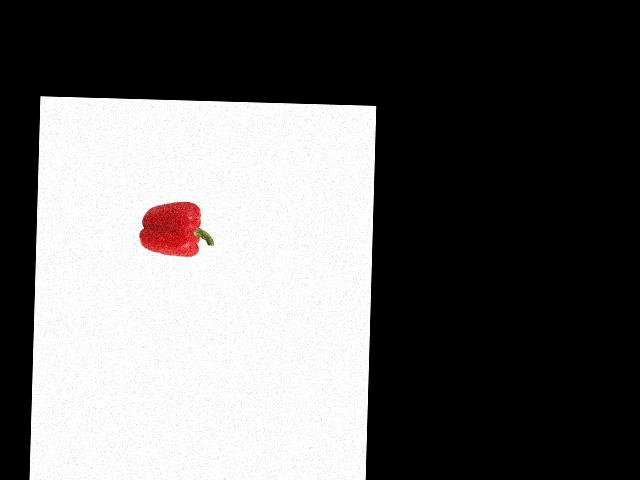bell_pepper: (138, 192, 214, 260)
